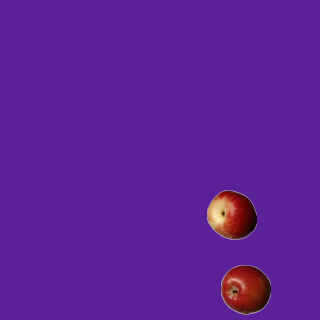Apple Braeburn: (220, 264, 270, 314)
Nectarine: (206, 189, 256, 239)
